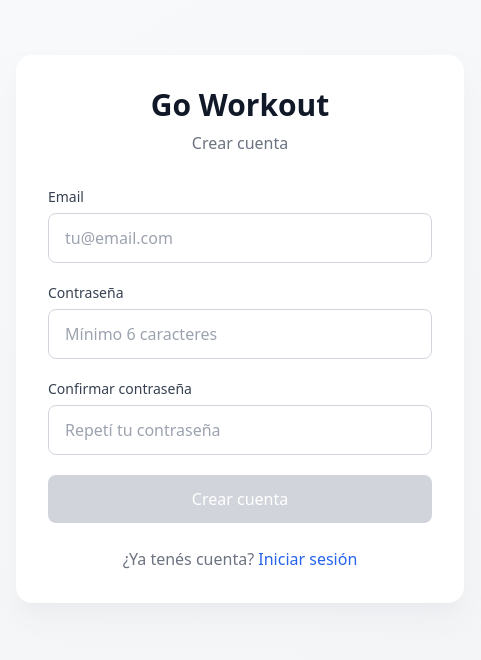
Test: RegistroPage › Manejo de errores › muestra error de contraseña débil
The image size is (481, 660).
In the field labelled "Email": {"x": 240, "y": 238} [48,213,432,263], type "test@example.com"
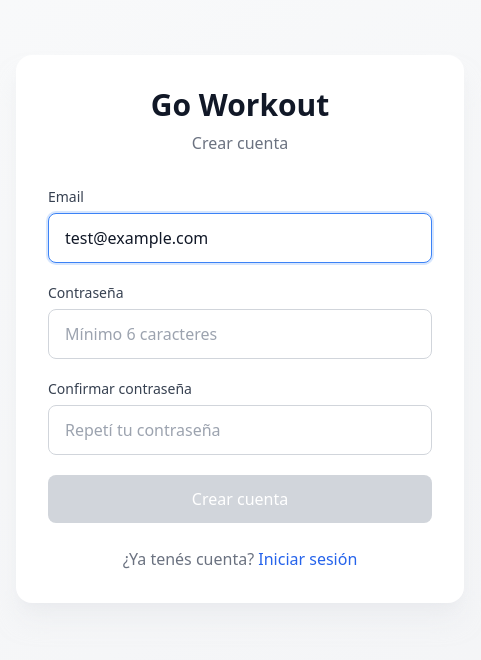
In the password field labelled "Contraseña": {"x": 240, "y": 334} [48,309,432,359], type "password123"
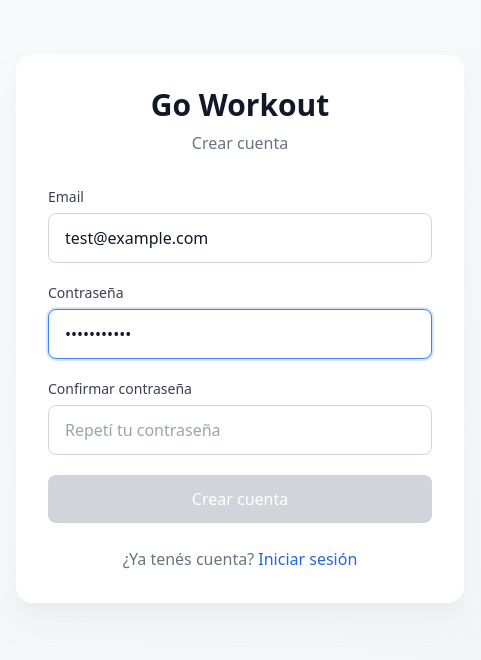
In the password field labelled "Confirmar contraseña": {"x": 240, "y": 430} [48,405,432,455], type "password123"
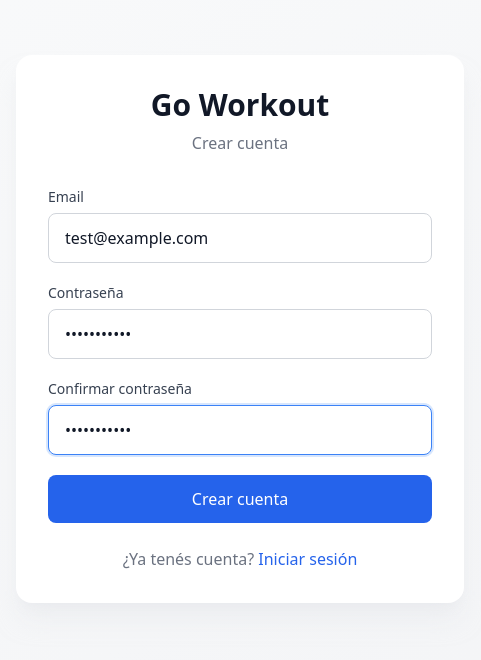
Click the button "Crear cuenta": {"x": 240, "y": 499} [48,475,432,523]
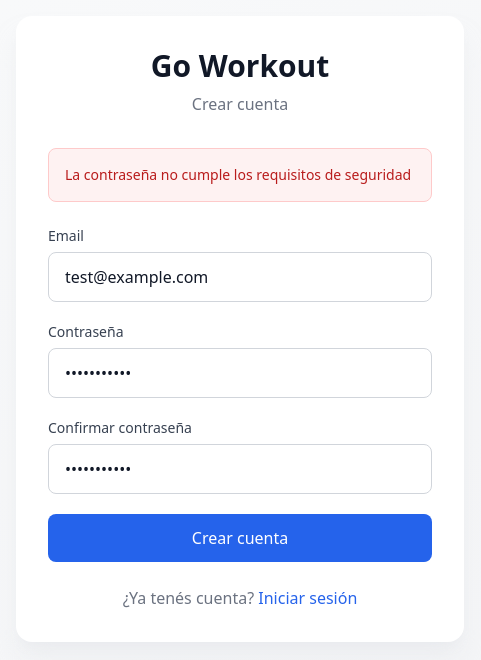
Expected: the text "La contraseña no cumple los requisitos de seguridad" is shown, [48,148,432,202]
